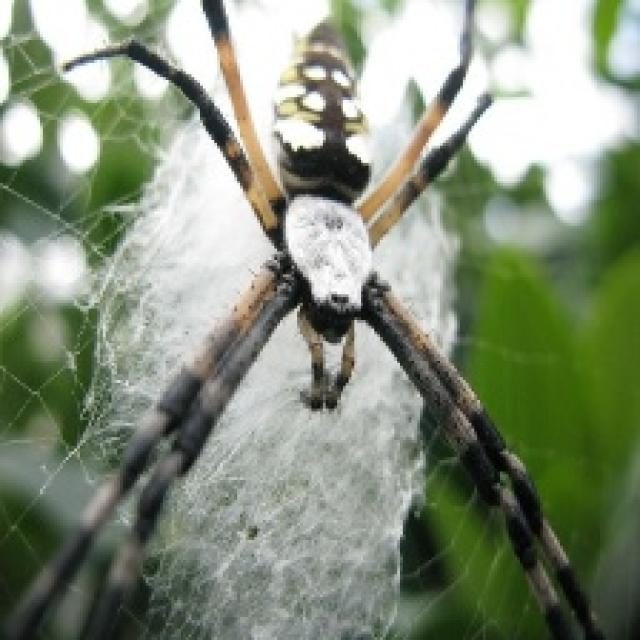Non venomous spider: (248, 18, 426, 416)
